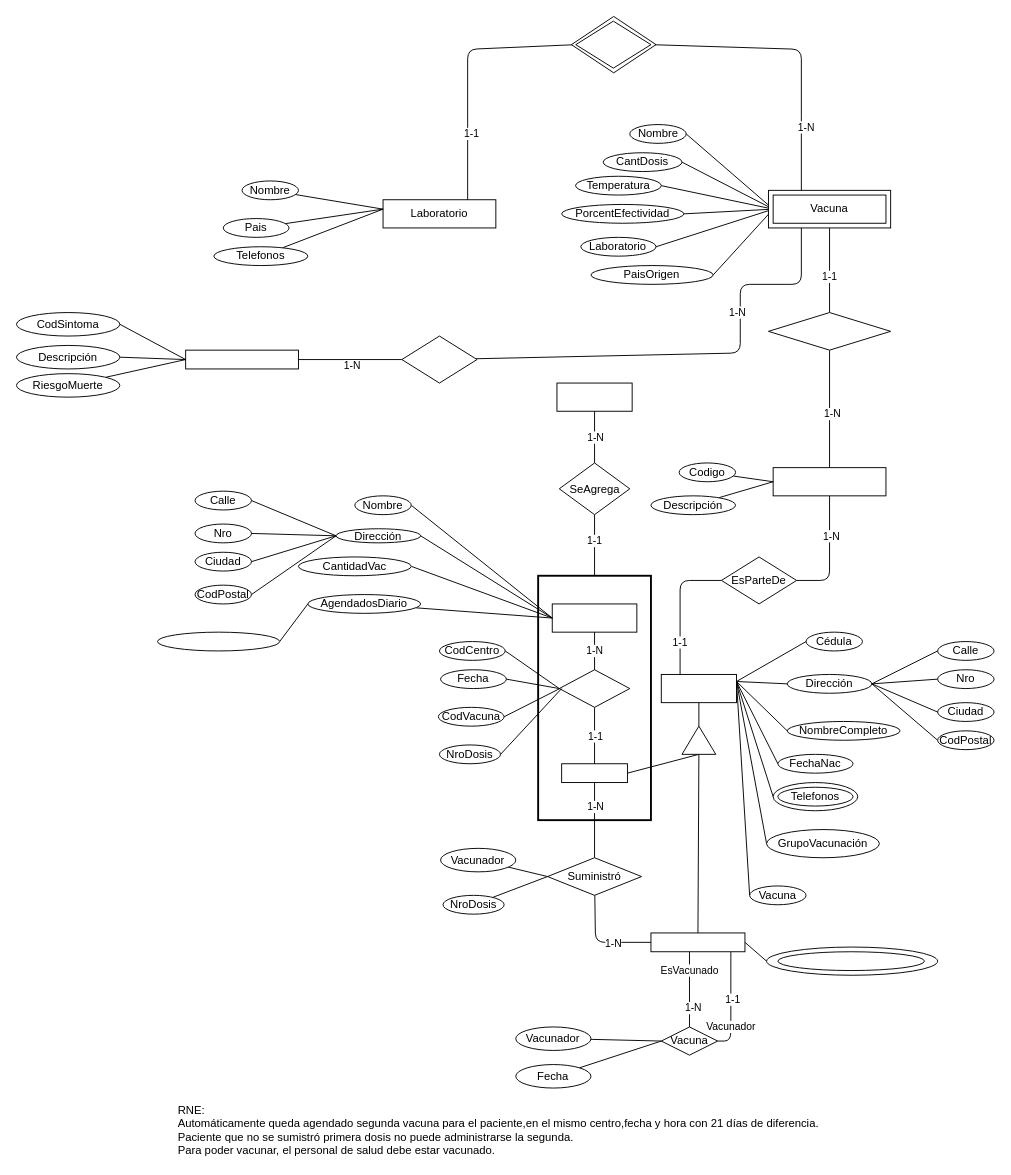
The diagram is 1011 pixels wide and 1175 high, and some of its shapes have lost their labels. The box of each missing label's shape, as (x1, y1, x2, y2) in pixels:
Centro vacunación: (551, 603, 637, 632)
GruooVacunación: (772, 467, 886, 496)
LeCorresponde: (768, 312, 891, 350)
NombreEspecialidad: (777, 951, 924, 971)
Paciente: (561, 763, 627, 783)
Persona: (660, 674, 736, 703)
PersonalSalud: (650, 932, 745, 952)
Produce: (575, 20, 651, 68)
Registro: (556, 382, 632, 411)
SeAgenda: (558, 669, 630, 707)
Síntoma: (185, 349, 298, 369)
Tiene: (401, 335, 477, 383)
VacunadosCompleto: (157, 631, 280, 651)
